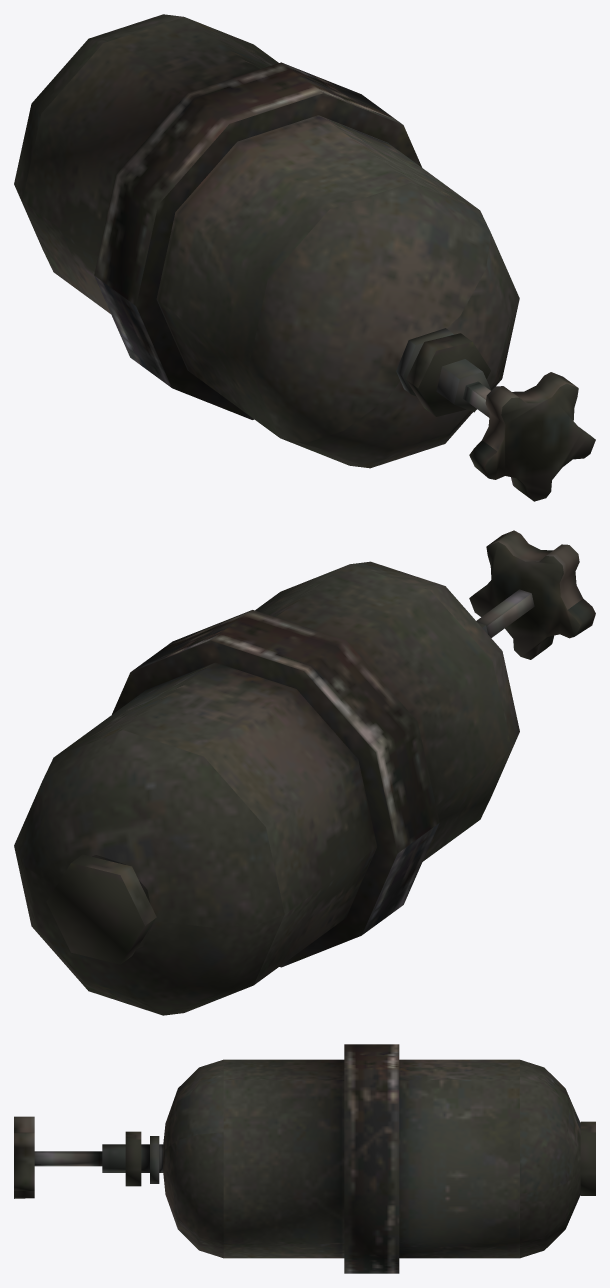
Rendered from flamer_fuel.obj.
The picture shows the model from 3 angles, top to bottom: view 1: azimuth 30°, elevation 25°; view 2: azimuth 150°, elevation 25°; view 3: azimuth 270°, elevation 25°; orthographic projection. The views are drawn at different scales.
Parts seen in each view (by area): view 1: flamer_fuel; view 2: flamer_fuel; view 3: flamer_fuel.
Boxes of the visible parts, x1,y1,x2,y2 form: flamer_fuel: (14, 14, 595, 501); flamer_fuel: (14, 530, 595, 1015); flamer_fuel: (14, 1044, 595, 1273).
Size of the model in its own units: 9.8 by 9.56 by 24.9.
1 material, 1 textured.
